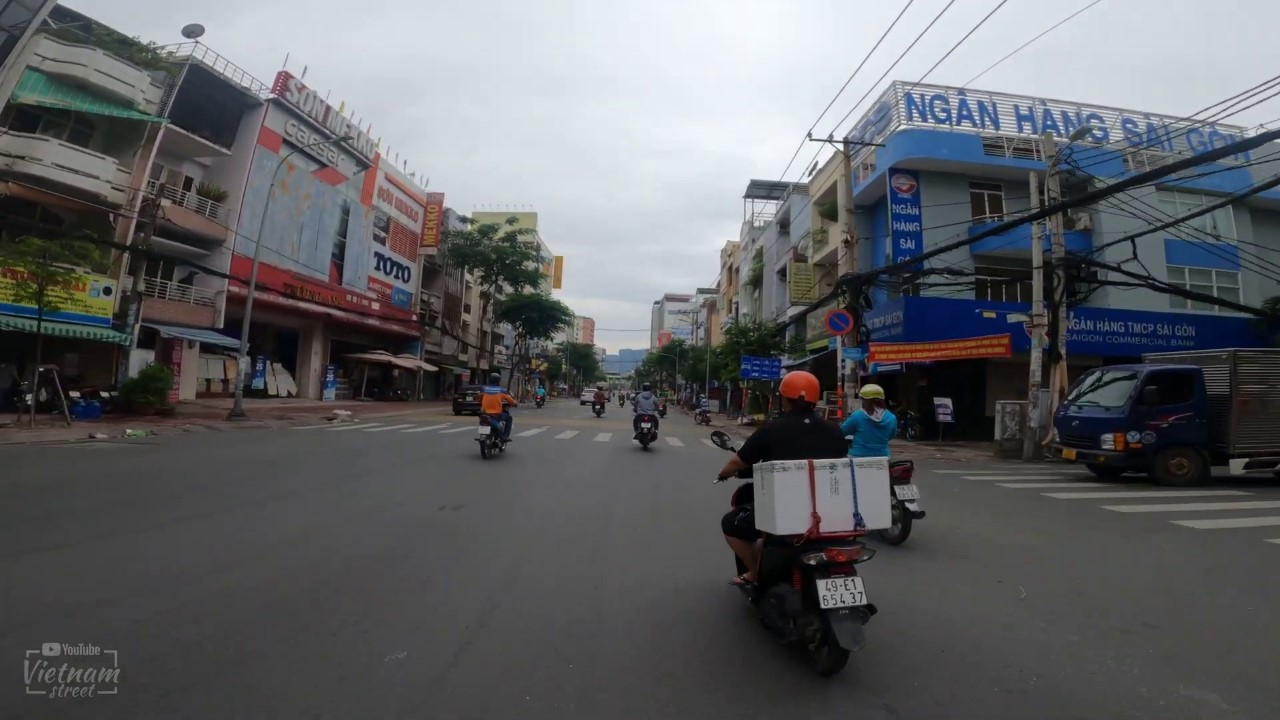cam_do_xe: (824, 309, 854, 335)
